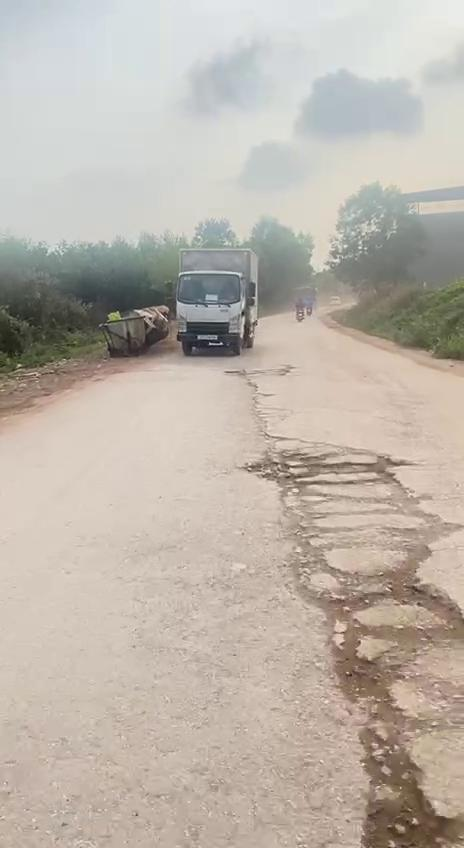pothole: (293, 540, 464, 691), (327, 683, 464, 848), (239, 430, 406, 532)
